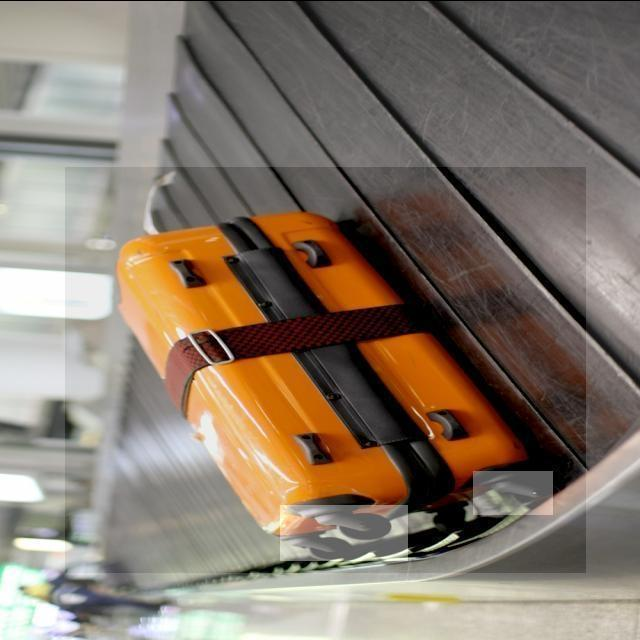Suitcase: (99, 200, 554, 566)
